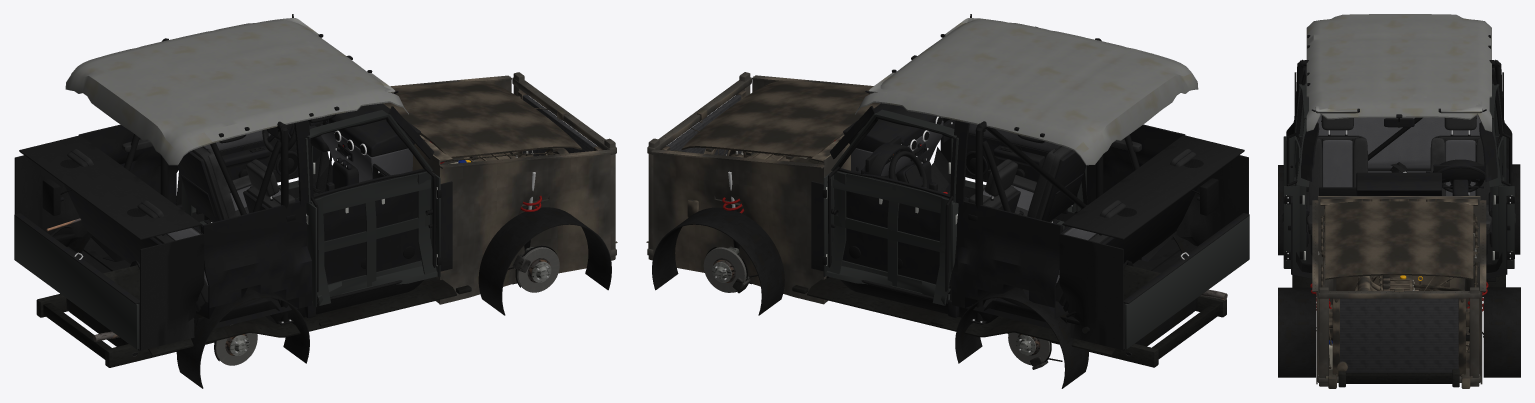
The model's file is trilheiro_completo.glb.
3 renders of one model, left to right at view 1: azimuth 30°, elevation 25°; view 2: azimuth 150°, elevation 25°; view 3: azimuth 270°, elevation 25°, orthographic. The views are drawn at different scales.
Parts seen in each view (by area): view 1: interior_forro_teto, interior_portamalas_carpete, engine_paralama_interno_dir, hood_manta, interior_lateral_traseira_dir, door_card_fr_chapa, interior_portamalas_tampao, door_card_fr, under_assoalho, under_caixa_roda_fr, interior_painel, interior_carpete (+22 smaller); view 2: interior_forro_teto, interior_portamalas_carpete, engine_paralama_interno_esq, hood_manta, interior_lateral_traseira_esq, door_card_fl_chapa, interior_portamalas_tampao, door_card_fl, under_assoalho, under_caixa_roda_fl, interior_painel, interior_carpete (+21 smaller); view 3: interior_forro_teto, hood_manta, engine_radiador, interior_banco_traseiro, engine_travessa, interior_banco_dianteiro_dir, under_caixa_roda_fl, under_caixa_roda_fr, interior_painel, engine_corta_fogo, interior_banco_dianteiro_esq, jamb_fr_colunas (+26 smaller).
Part boxes in pixels (x1,y1,x2,y2): interior_forro_teto: (65, 19, 408, 165); interior_portamalas_carpete: (14, 155, 204, 350); engine_paralama_interno_dir: (438, 149, 613, 304); hood_manta: (383, 81, 582, 160); interior_lateral_traseira_dir: (196, 201, 311, 318); door_card_fr_chapa: (310, 171, 437, 305); interior_portamalas_tampao: (19, 135, 201, 239); door_card_fr: (313, 168, 426, 297); under_assoalho: (103, 265, 471, 356); under_caixa_roda_fr: (478, 207, 611, 315); interior_painel: (308, 103, 420, 182); interior_carpete: (83, 151, 423, 328); interior_forro_teto: (855, 18, 1198, 165); interior_portamalas_carpete: (1059, 155, 1249, 350); engine_paralama_interno_esq: (651, 149, 825, 304); hood_manta: (681, 81, 880, 159); interior_lateral_traseira_esq: (952, 201, 1067, 318); door_card_fl_chapa: (826, 171, 953, 305); interior_portamalas_tampao: (1062, 135, 1244, 239); door_card_fl: (838, 168, 950, 297); under_assoalho: (792, 265, 1160, 355); under_caixa_roda_fl: (652, 207, 784, 315); interior_painel: (843, 103, 955, 176); interior_carpete: (840, 147, 1180, 328); interior_forro_teto: (1306, 14, 1491, 131); hood_manta: (1325, 201, 1473, 279); engine_radiador: (1332, 298, 1465, 376); interior_banco_traseiro: (1306, 115, 1480, 191); engine_travessa: (1317, 276, 1480, 386); interior_banco_dianteiro_dir: (1306, 115, 1367, 254); under_caixa_roda_fl: (1483, 287, 1520, 377); under_caixa_roda_fr: (1278, 287, 1315, 377); interior_painel: (1319, 159, 1492, 212); engine_corta_fogo: (1317, 196, 1480, 304); interior_banco_dianteiro_esq: (1430, 115, 1492, 255); jamb_fr_colunas: (1283, 83, 1309, 268).
Size of what is drawn, in the model's own units: 3.97 by 1.85 by 1.98.
56 materials, 56 textured.
